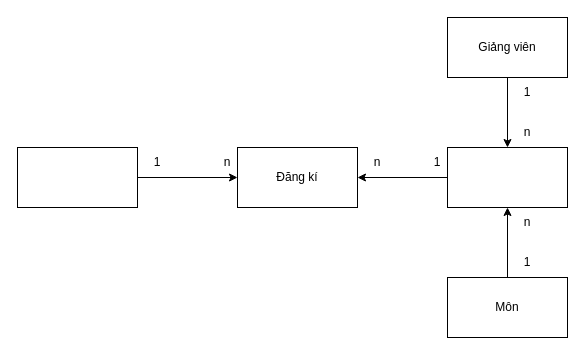
Some shapes in this 585 by 355 pixel diagram are drawn without their labels. Each missing label, with the centre of its shape:
Lớp Học Phần: the point at 507,177
SinhVien: the point at 77,177
